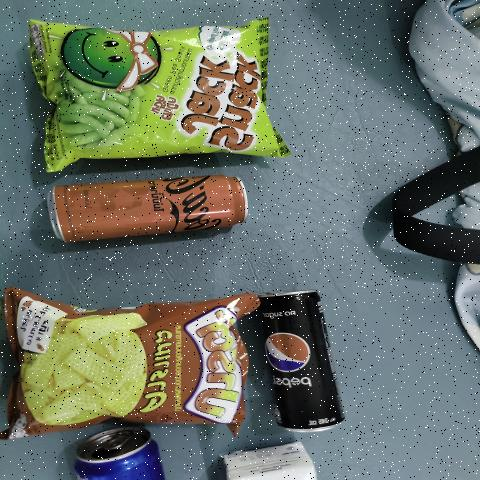coke_red: (48, 176, 250, 241)
party_red: (18, 302, 242, 422)
pepsi_black: (259, 301, 354, 432)
snack_jack: (37, 23, 274, 159)
